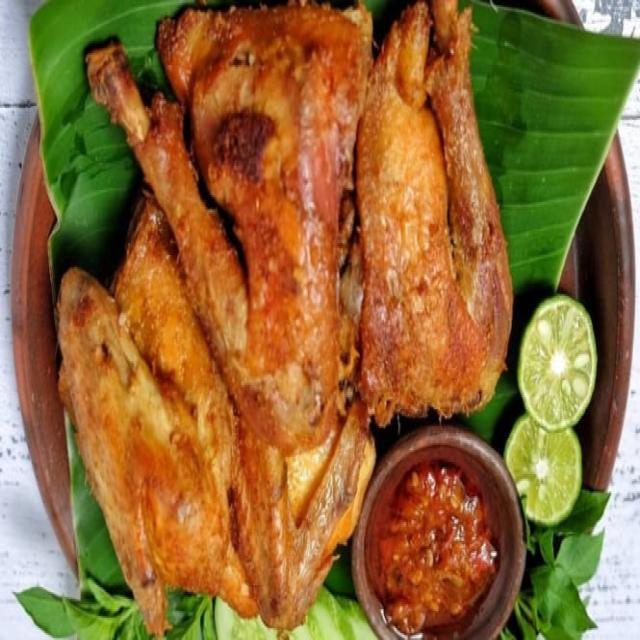ayam_goreng: (67, 19, 529, 626)
